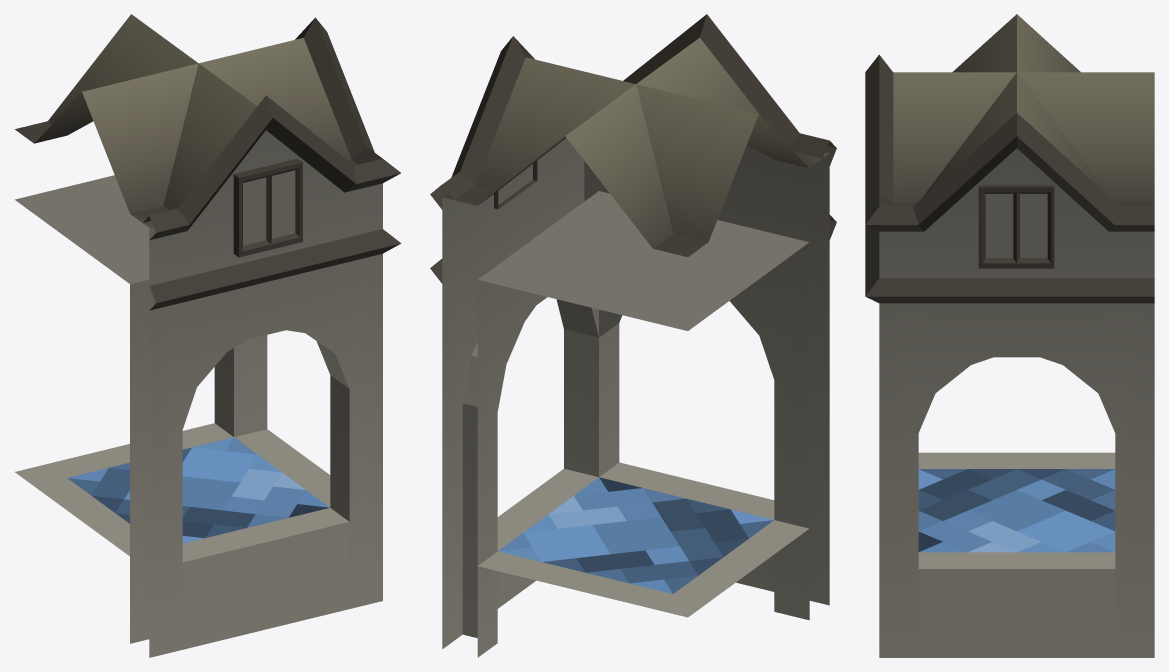
Rendered from Archway_A.fbx.
3 views of the same model, side by side, from view 1: azimuth 30°, elevation 25°; view 2: azimuth 150°, elevation 25°; view 3: azimuth 270°, elevation 25° (orthographic). The views are drawn at different scales.
Visible parts, largest first — view 1: Archway_A; view 2: Archway_A; view 3: Archway_A.
Part boxes in pixels (bbox=[...]): Archway_A: bbox=[15, 14, 400, 657]; Archway_A: bbox=[430, 14, 836, 657]; Archway_A: bbox=[865, 14, 1154, 657].
Bounding box in the file's own units: 368 × 765 × 368.
